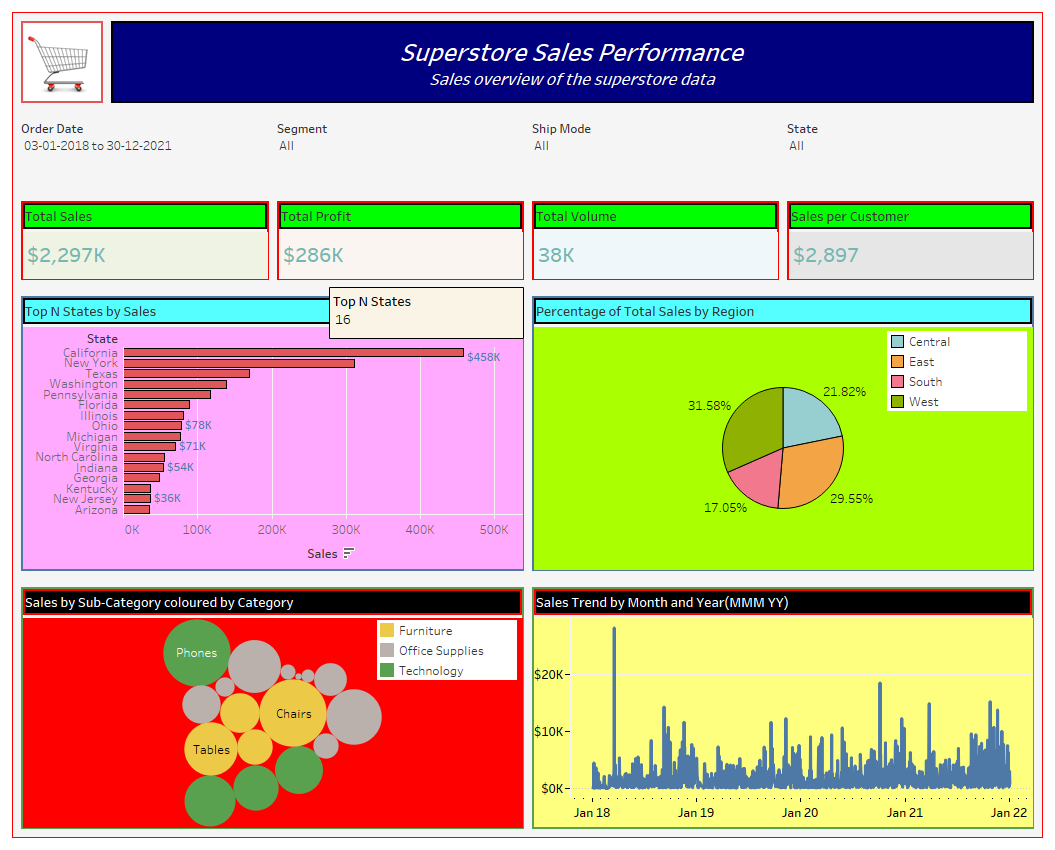

The dashboard page shown, as its layout file describes it:
{"tool":"tableau","page":{"name":"Sales Dashboard","canvas":[1055,850],"ordinal":0},"visuals":[{"type":"image","param":"Image/6011.jpg","box":[17,17,90,90]},{"type":"text","box":[107,17,931,90]},{"type":"filter","title":"Line Chart","param":"[federated.0byjq6q0j79g9b1dpfhdy0t9hqac].[none:Order Date:qk]","box":[17,115,256,74]},{"type":"filter","title":"Pie Chart","param":"[federated.0byjq6q0j79g9b1dpfhdy0t9hqac].[none:Segment:nk]","box":[273,115,255,74]},{"type":"filter","title":"Pie Chart","param":"[federated.0byjq6q0j79g9b1dpfhdy0t9hqac].[none:Ship Mode:nk]","box":[528,115,255,74]},{"type":"filter","title":"Pie Chart","param":"[federated.0byjq6q0j79g9b1dpfhdy0t9hqac].[none:State:nk]","box":[783,115,255,74]},{"type":"worksheet","title":"Total Sales","mark":"Automatic","box":[17,197,256,87]},{"type":"worksheet","title":"Total Profit","mark":"Automatic","box":[273,197,255,87]},{"type":"worksheet","title":"Total Volume","mark":"Automatic","box":[528,197,255,87]},{"type":"worksheet","title":"Sales per Customer","mark":"Automatic","box":[783,197,255,87]},{"type":"parameter","param":"[Parameters].[Parameter 1]","box":[329,287,195,52]},{"type":"worksheet","title":"Bar Chart","mark":"Bar","rows":["State"],"cols":["Sales"],"box":[17,292,511,283]},{"type":"worksheet","title":"Pie Chart","mark":"Pie","box":[528,292,510,283]},{"type":"legend","title":"Pie Chart","param":"[federated.0byjq6q0j79g9b1dpfhdy0t9hqac].[none:Region:nk]","box":[887,331,140,80]},{"type":"worksheet","title":"Bubble Chart","mark":"Circle","box":[17,583,511,250]},{"type":"worksheet","title":"Line Chart","mark":"Line","rows":["Sales"],"cols":["Order Date"],"box":[528,583,510,250]},{"type":"legend","title":"Bubble Chart","param":"[federated.0byjq6q0j79g9b1dpfhdy0t9hqac].[none:Category:nk]","box":[377,620,140,60]}]}

Visuals, with their boxes in screenshot pixels (x1, y1, x2, y2), scaled from the page's 1055x850 canvas onto the 1055x850 screenshot:
image: BBox(17, 17, 107, 107)
text: BBox(107, 17, 1038, 107)
"Line Chart" filter: BBox(17, 115, 273, 189)
"Pie Chart" filter: BBox(273, 115, 528, 189)
"Pie Chart" filter: BBox(528, 115, 783, 189)
"Pie Chart" filter: BBox(783, 115, 1038, 189)
"Total Sales" worksheet: BBox(17, 197, 273, 284)
"Total Profit" worksheet: BBox(273, 197, 528, 284)
"Total Volume" worksheet: BBox(528, 197, 783, 284)
"Sales per Customer" worksheet: BBox(783, 197, 1038, 284)
parameter: BBox(329, 287, 524, 339)
"Bar Chart" worksheet (Bar marks): BBox(17, 292, 528, 575)
"Pie Chart" worksheet (Pie marks): BBox(528, 292, 1038, 575)
"Pie Chart" legend: BBox(887, 331, 1027, 411)
"Bubble Chart" worksheet (Circle marks): BBox(17, 583, 528, 833)
"Line Chart" worksheet (Line marks): BBox(528, 583, 1038, 833)
"Bubble Chart" legend: BBox(377, 620, 517, 680)
